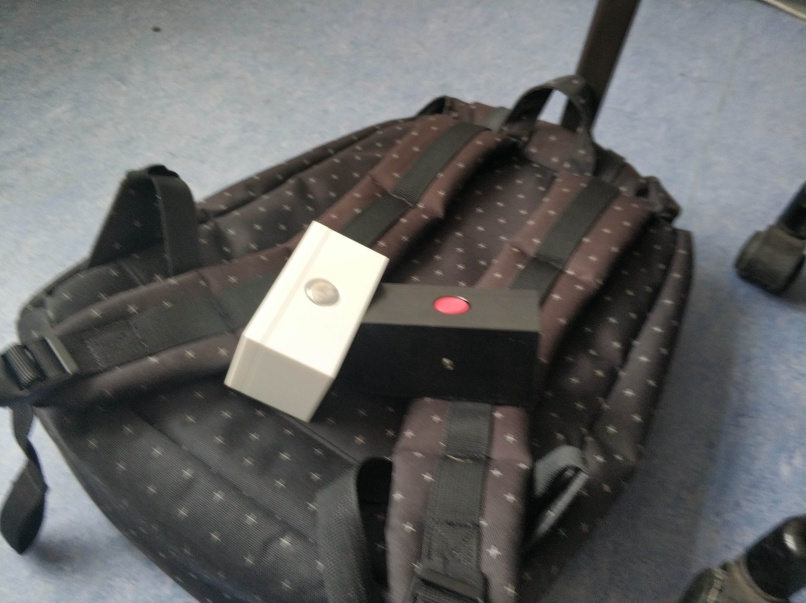black+black+red: (350, 277, 544, 408)
white+white+silver: (221, 217, 386, 424)
